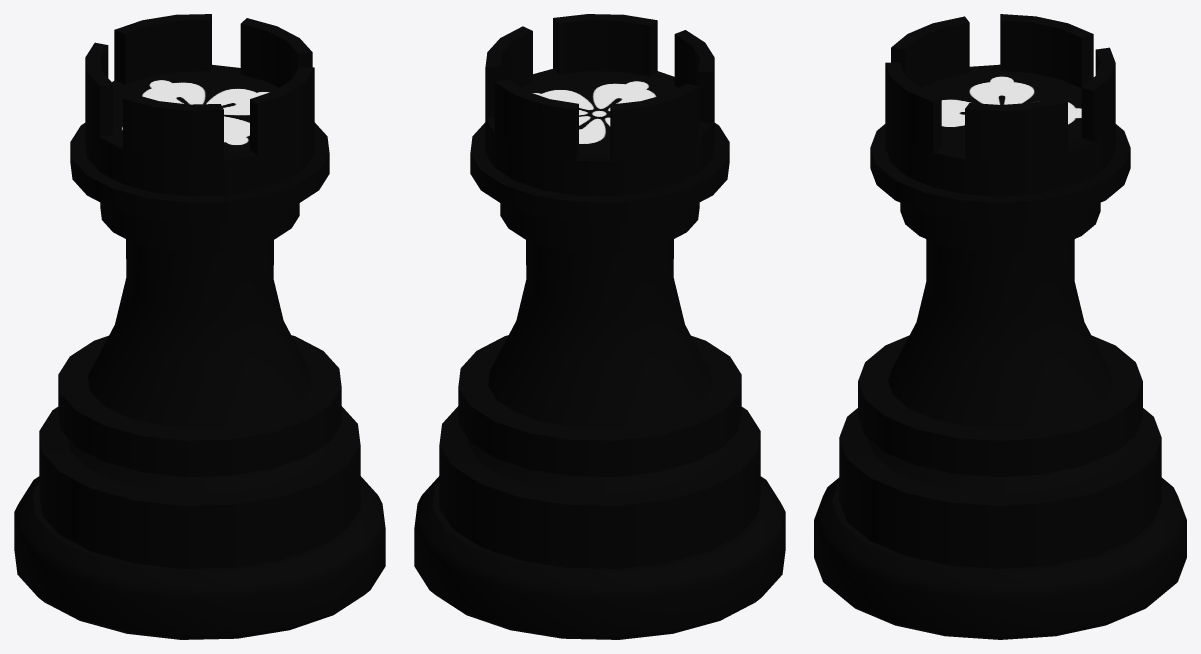
File: rook_chess_piece.glb
3 views of the same model, side by side, from view 1: azimuth 30°, elevation 25°; view 2: azimuth 150°, elevation 25°; view 3: azimuth 270°, elevation 25° (orthographic).
Visible parts, largest first — view 1: Rook; view 2: Rook; view 3: Rook.
Boxes of the visible parts, box(x1,y1,x2,y2) form: Rook: box(14, 14, 385, 639); Rook: box(414, 14, 785, 639); Rook: box(814, 14, 1186, 639).
Size of the model in its own units: 1.3 by 1.92 by 1.3.
Materials: 1 (1 with a texture image).
